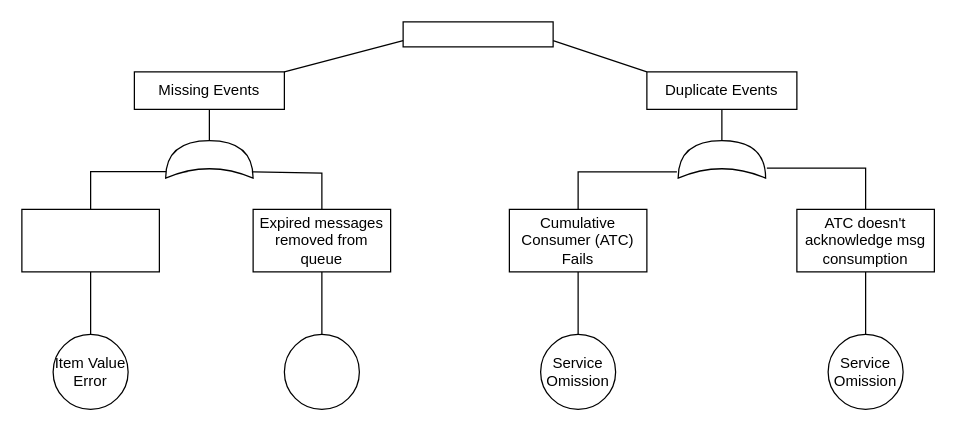
Image size: 956x431. Some labels were removed from this diagram. Here are the shapes that lost their labels. From the top down, the centre of each, then its label:
At (477,34): "ATC".
At (90,240): "Bad data from Evently stored in different bookie".
At (321,371): "Item Omission".
